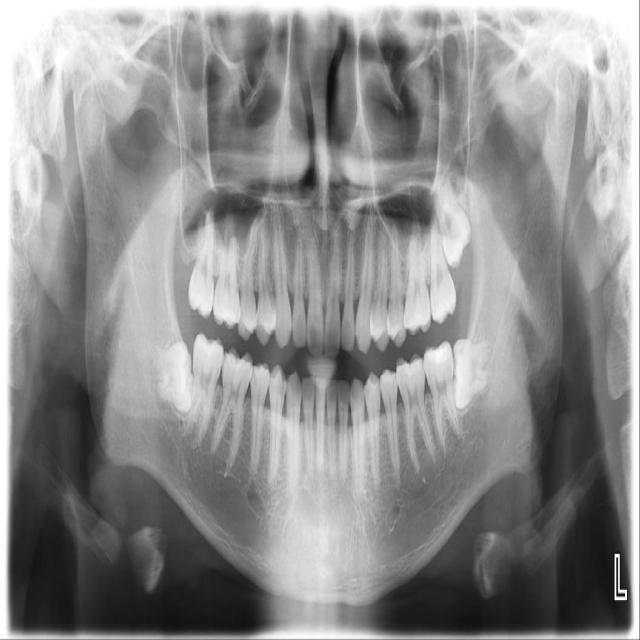Filling: (427, 346, 444, 364)
impacted tooth: (434, 170, 469, 265), (149, 345, 196, 412), (452, 337, 495, 406)
